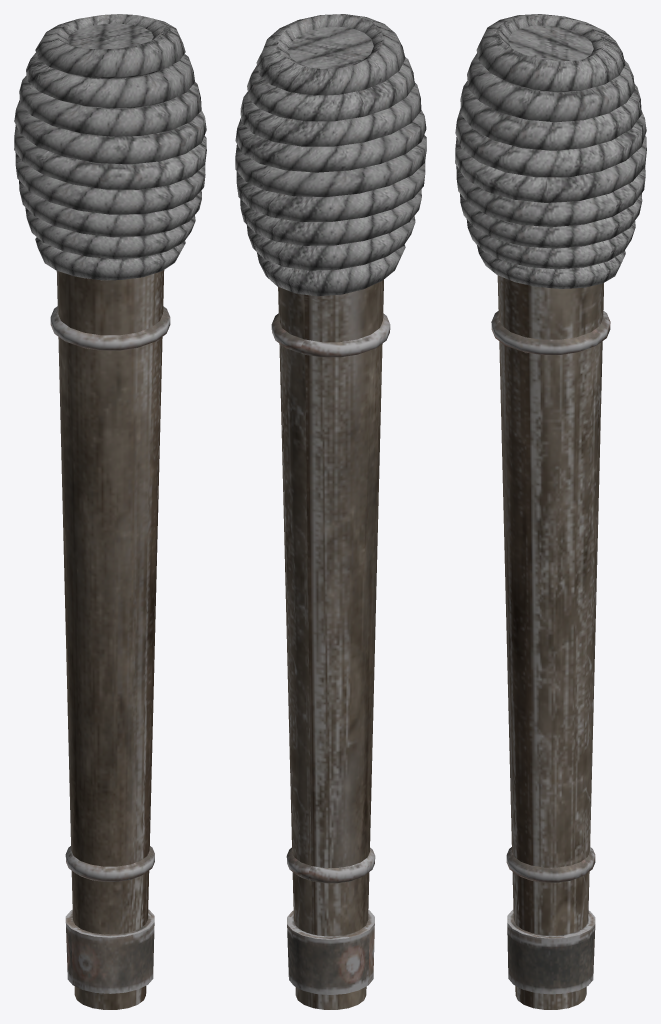
File: SM_Torch01.FBX
3 renders of one model, left to right at view 1: azimuth 30°, elevation 25°; view 2: azimuth 150°, elevation 25°; view 3: azimuth 270°, elevation 25°, orthographic.
Visible parts, largest first — view 1: SM_Torch01; view 2: SM_Torch01; view 3: SM_Torch01.
Part boxes in pixels (x1,y1,x2,y2): SM_Torch01: (14, 14, 206, 1009); SM_Torch01: (235, 14, 426, 1009); SM_Torch01: (455, 14, 646, 1009).
Bounding box in the file's own units: 18.63 × 18.51 × 103.
